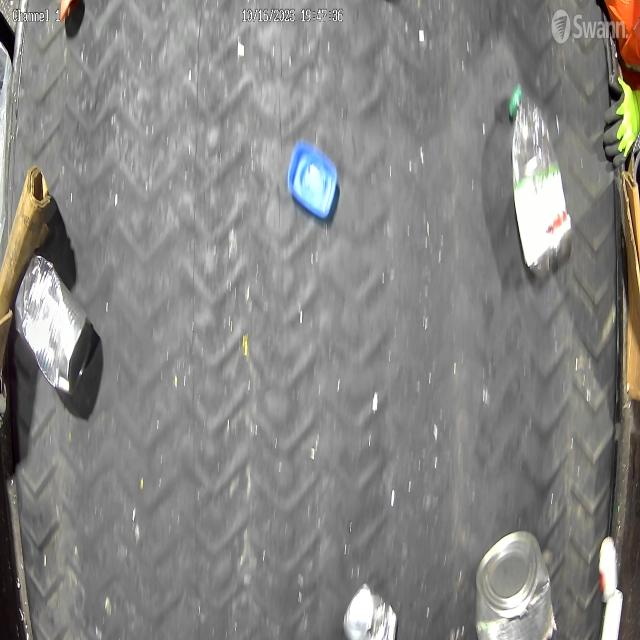can: (12, 253, 93, 394), (474, 528, 560, 640), (342, 582, 398, 640)
plastic_bottle: (508, 85, 574, 279)
